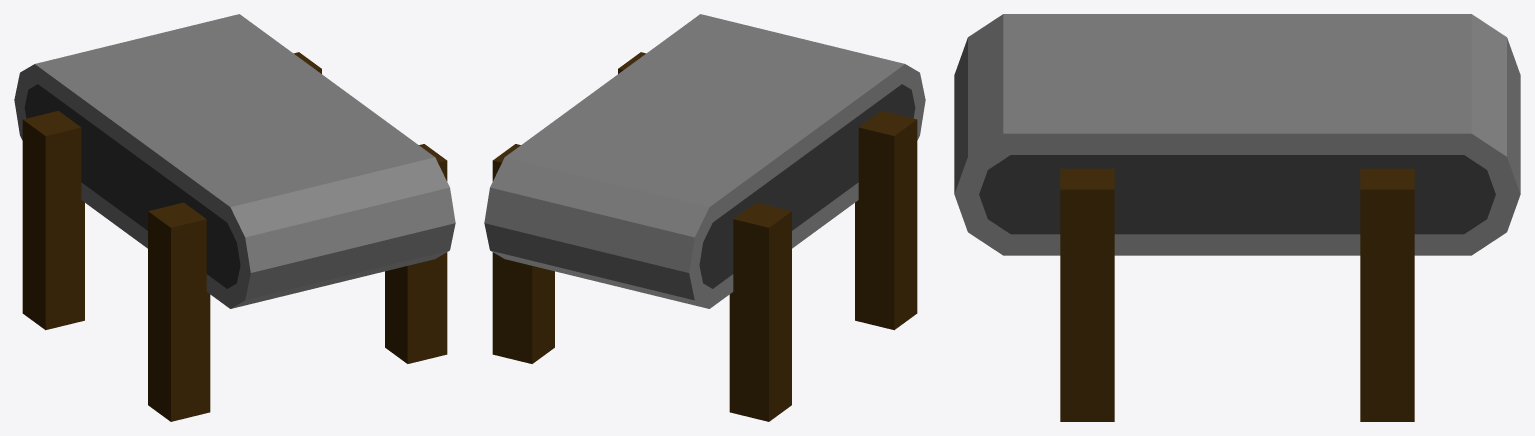
File: FactoryLent.fbx
3 views of the same model, side by side, from view 1: azimuth 30°, elevation 25°; view 2: azimuth 150°, elevation 25°; view 3: azimuth 270°, elevation 25° (orthographic). The views are drawn at different scales.
Visible parts, largest first — view 1: Cylinder, Cube; view 2: Cylinder, Cube; view 3: Cylinder, Cube.
Part boxes in pixels (x1,y1,x2,y2): Cylinder: [14, 14, 455, 308]; Cube: [22, 52, 447, 421]; Cylinder: [484, 14, 925, 308]; Cube: [492, 52, 917, 421]; Cylinder: [954, 14, 1520, 255]; Cube: [1060, 168, 1414, 421].
Bounding box in the file's own units: 280 × 415 × 216.
